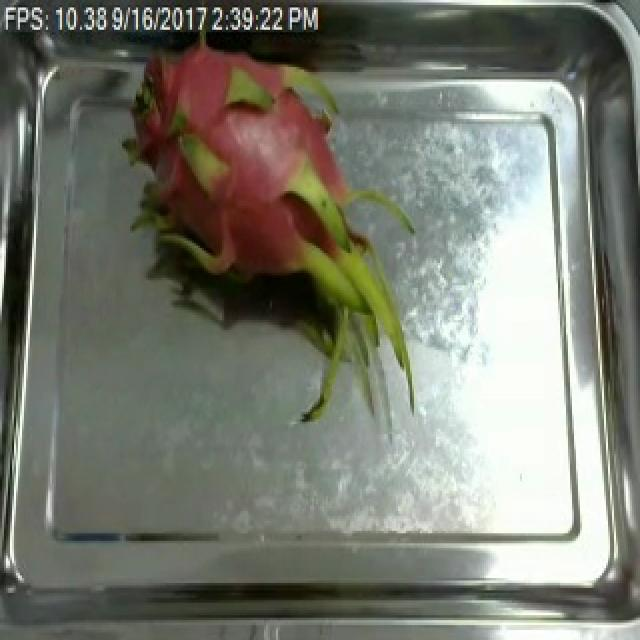fruit: (92, 2, 428, 335)
